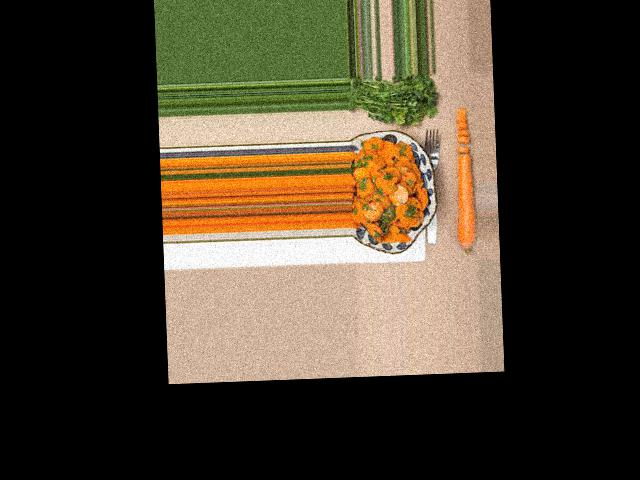carrot: (454, 145, 477, 254)
